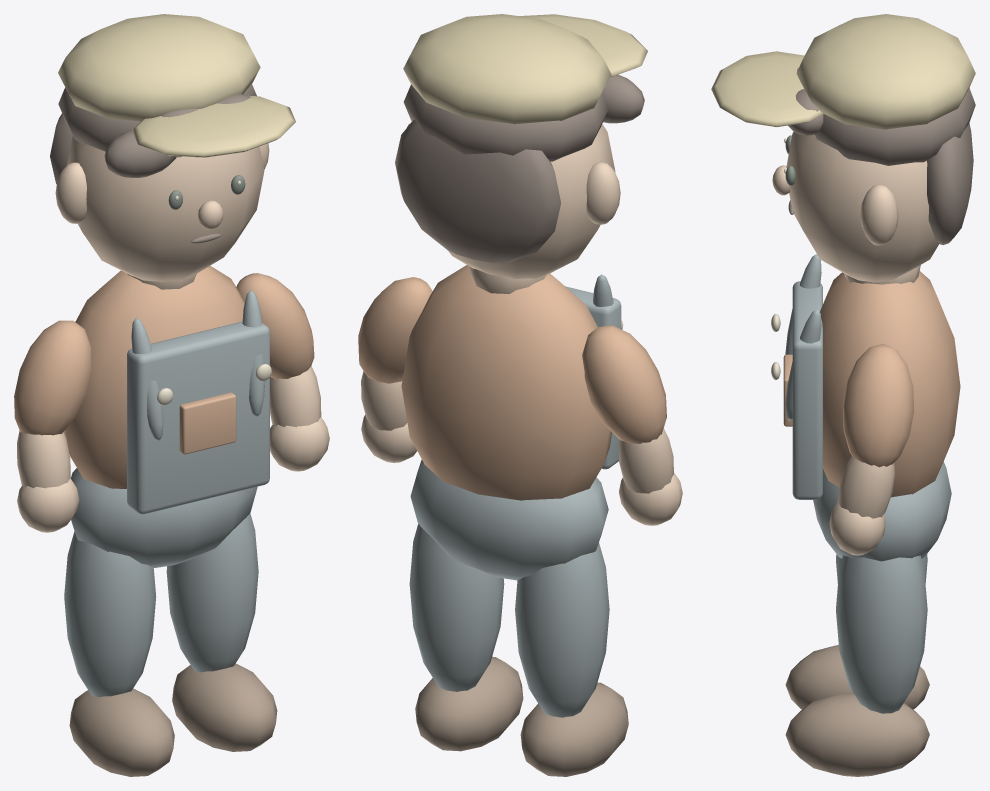
File: jeff-idle.glb
3 views of the same model, side by side, from view 1: azimuth 30°, elevation 25°; view 2: azimuth 150°, elevation 25°; view 3: azimuth 270°, elevation 25° (orthographic). The views are drawn at different scales.
Parts seen in each view (by area): view 1: Overall bib.006, Head.012, Cap crown.003, Padded shirt.012, Trouser leg.024, Trouser leg.025, Soft trouser seat.012, Rounded boot.025, Rounded boot.024, Shirt sleeve.024, Cap bill.003, Shirt sleeve.025 (+12 smaller); view 2: Padded shirt.012, Cap crown.003, Hair back.012, Soft trouser seat.012, Trouser leg.024, Trouser leg.025, Shirt sleeve.024, Hair crown.012, Rounded boot.025, Rounded boot.024, Head.012, Shirt sleeve.025 (+9 smaller); view 3: Padded shirt.012, Cap crown.003, Head.012, Trouser leg.025, Rounded boot.025, Shirt sleeve.025, Overall bib.006, Cap bill.003, Soft trouser seat.012, Hair crown.012, Hair back.012, Rounded boot.024 (+6 smaller).
Part boxes in pixels (x1,y1,x2,y2): Overall bib.006: (127,321,269,514); Head.012: (67,136,264,281); Cap crown.003: (58,14,260,121); Padded shirt.012: (63,266,244,488); Trouser leg.024: (64,531,156,697); Trouser leg.025: (166,513,258,672); Soft trouser seat.012: (71,468,257,567); Rounded boot.025: (172,663,277,751); Rounded boot.024: (69,688,174,776); Shirt sleeve.024: (14,320,91,435); Cap bill.003: (132,95,295,157); Shirt sleeve.025: (236,273,314,379); Padded shirt.012: (401,265,612,500); Cap crown.003: (403,14,611,124); Hair back.012: (395,119,560,263); Soft trouser seat.012: (410,459,608,580); Trouser leg.024: (515,543,609,717); Trouser leg.025: (409,524,504,691); Shirt sleeve.024: (582,325,666,443); Hair crown.012: (403,84,608,161); Rounded boot.025: (415,656,523,751); Rounded boot.024: (520,682,628,776); Head.012: (447,124,615,278); Shirt sleeve.025: (358,277,432,383); Padded shirt.012: (820,271,960,497); Cap crown.003: (796,14,975,129); Head.012: (786,131,939,282); Trouser leg.025: (836,555,927,713); Rounded boot.025: (785,693,929,776); Shirt sleeve.025: (843,343,914,467); Overall bib.006: (792,281,822,499); Cap bill.003: (711,51,822,127); Soft trouser seat.012: (813,461,951,561); Hair crown.012: (815,88,975,165); Hair back.012: (927,123,973,244); Rounded boot.024: (785,645,929,709).
Bounding box in the file's own units: 0.8221 × 1.84 × 0.6171.
